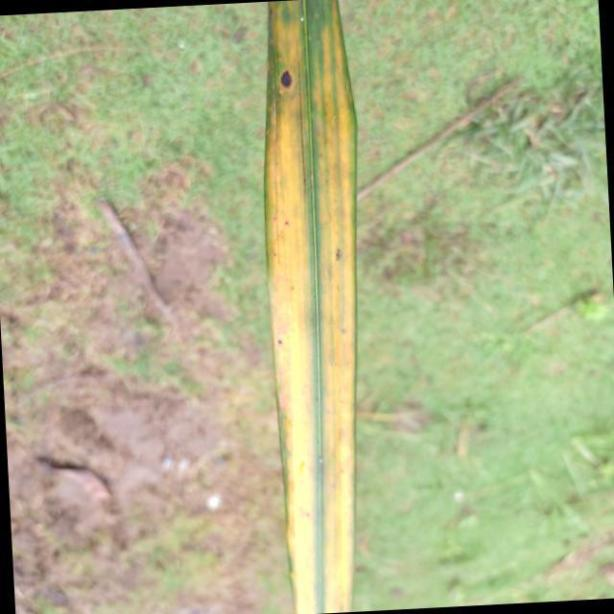Megnesium: (264, 0, 364, 614)
